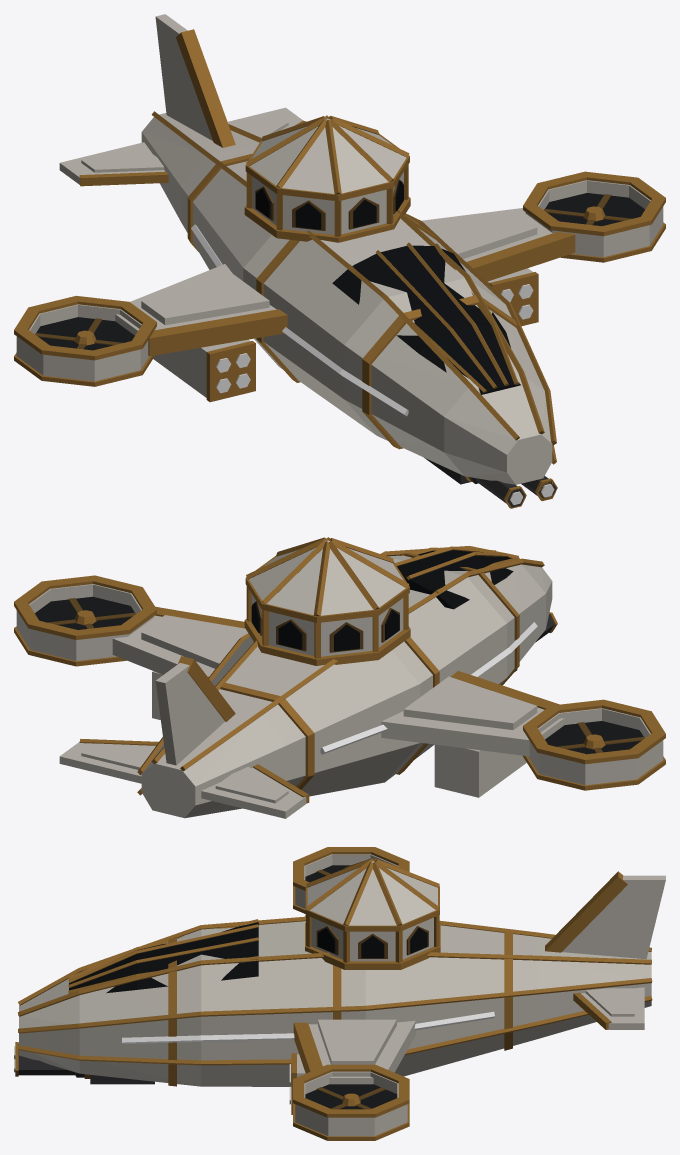
File: gunship.glb
The picture shows the model from 3 angles, top to bottom: view 1: azimuth 30°, elevation 25°; view 2: azimuth 150°, elevation 25°; view 3: azimuth 270°, elevation 25°; orthographic projection. The views are drawn at different scales.
Parts seen in each view (by area): view 1: body; view 2: body; view 3: body.
Boxes of the visible parts, x1=… form: body: x1=14, y1=14, x2=665, y2=508; body: x1=14, y1=537, x2=665, y2=818; body: x1=14, y1=847, x2=665, y2=1140.
Bounding box in the file's own units: 8.83 × 3.28 × 9.12.
